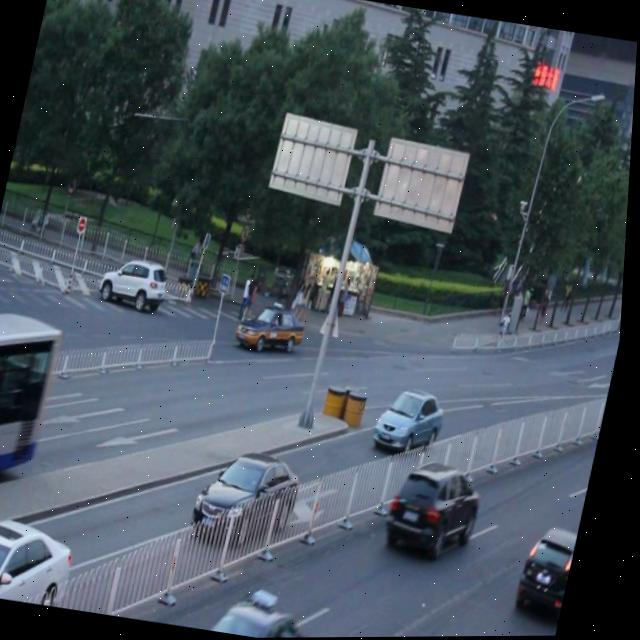car: (192, 440, 313, 549), (387, 454, 494, 564), (0, 499, 91, 609), (516, 520, 586, 621), (207, 586, 330, 639), (374, 381, 456, 458), (237, 297, 315, 356), (102, 253, 171, 311)
van: (0, 302, 69, 508)
